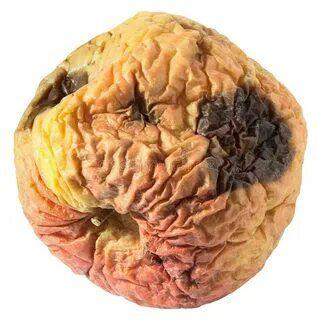Apple: (15, 11, 306, 310)
